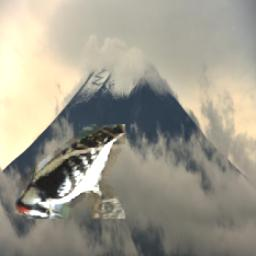Woodpecker: (15, 124, 125, 219)
